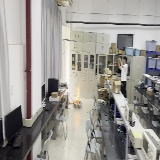fire: (75, 83, 80, 103)
